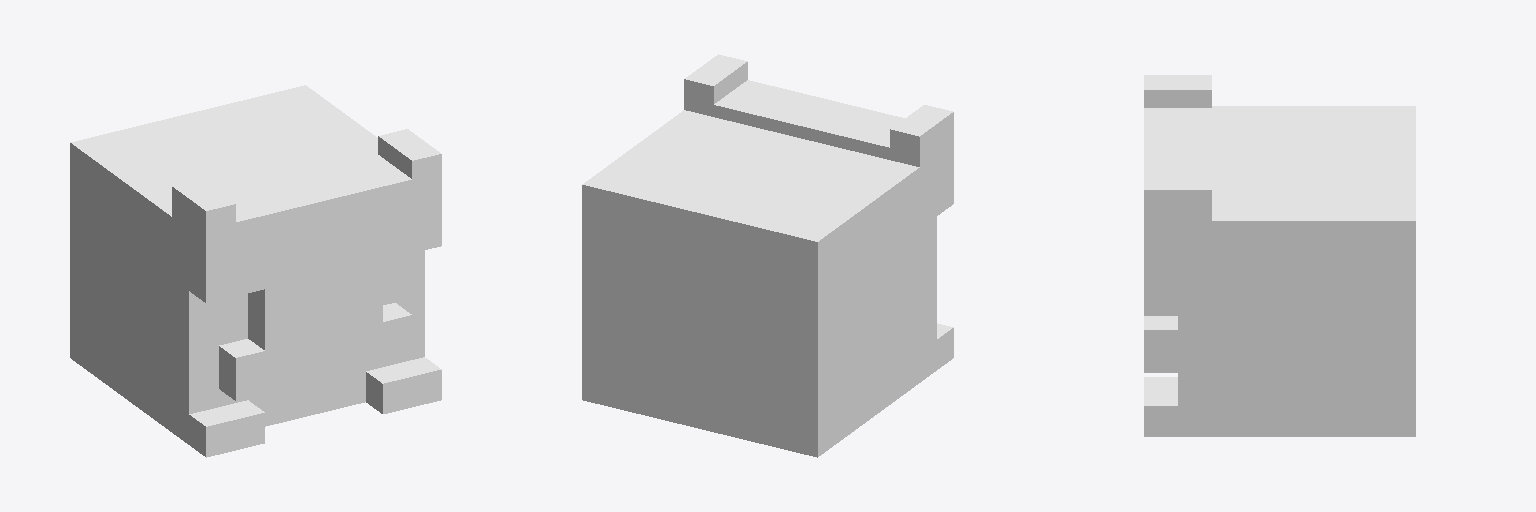
File: Hippo.obj
3 views of the same model, side by side, from view 1: azimuth 30°, elevation 25°; view 2: azimuth 150°, elevation 25°; view 3: azimuth 270°, elevation 25° (orthographic).
Parts seen in each view (by area): view 1: Hippo; view 2: Hippo; view 3: Hippo.
Part boxes in pixels (bbox=[...]): Hippo: bbox=[70, 85, 441, 457]; Hippo: bbox=[582, 54, 953, 457]; Hippo: bbox=[1144, 75, 1415, 436].
Size of the model in its own units: 40 by 40 by 40.